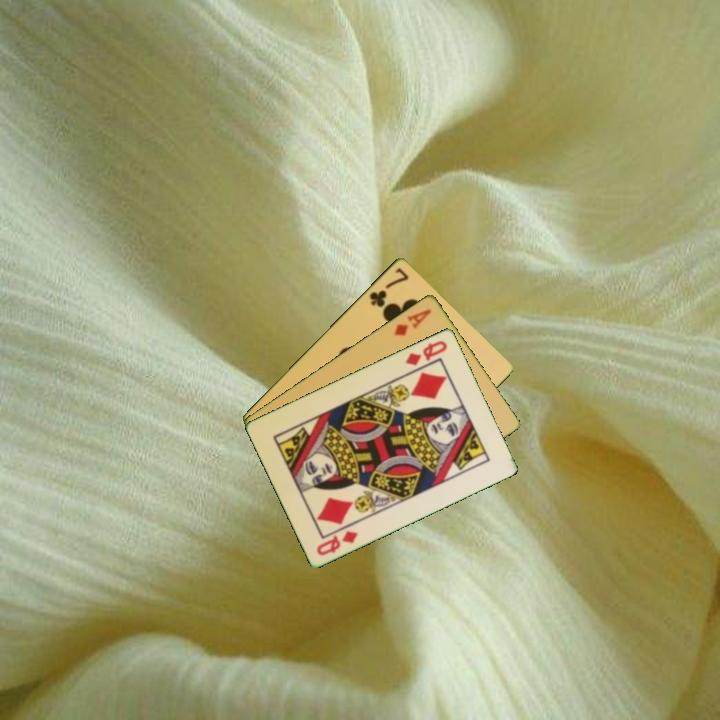7c: (366, 264, 412, 310)
Ad: (391, 305, 435, 338)
Qd: (313, 526, 361, 558), (402, 337, 450, 368)
